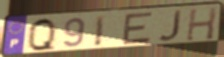9: (62, 16, 87, 49)
E: (121, 10, 155, 46)
H: (185, 6, 219, 42)
I: (92, 14, 107, 48)
J: (157, 9, 184, 43)
Q: (27, 16, 57, 53)
